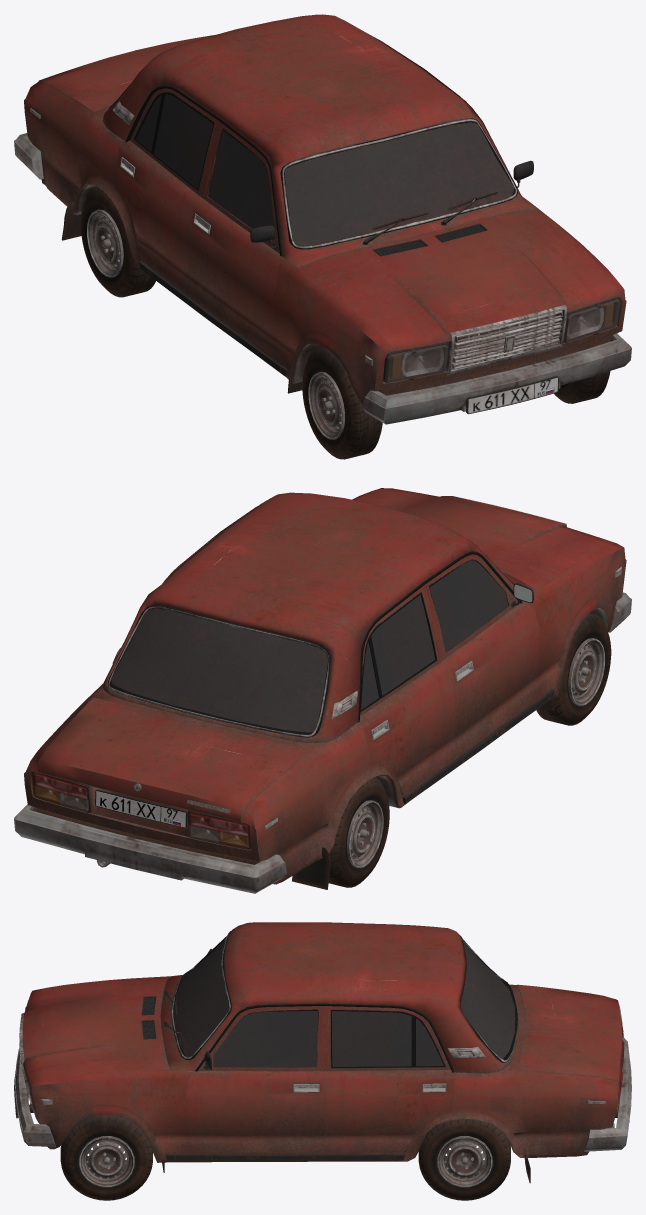
The model's file is car_sedan.glb.
The picture shows the model from 3 angles, top to bottom: view 1: azimuth 30°, elevation 25°; view 2: azimuth 150°, elevation 25°; view 3: azimuth 270°, elevation 25°; orthographic projection. The views are drawn at different scales.
Parts seen in each view (by area): view 1: Car; view 2: Car; view 3: Car.
Boxes of the visible parts, <box> form: Car: <box>14,14,631,459</box>; Car: <box>14,488,631,893</box>; Car: <box>14,922,631,1200</box>.
Bounding box in the file's own units: 1.8 × 1.49 × 4.2.
Materials: 6 (6 with a texture image).
